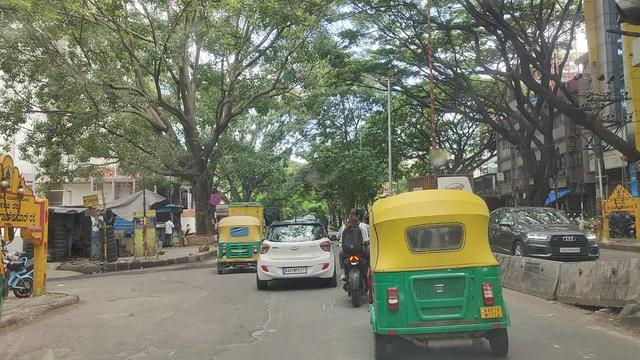LMV: (371, 195, 513, 351), (259, 221, 335, 286), (337, 210, 372, 302), (215, 217, 260, 266)
RoadDamages: (149, 295, 205, 331), (216, 324, 271, 358), (109, 339, 179, 360), (15, 344, 85, 360), (87, 309, 135, 325), (261, 292, 279, 323), (108, 289, 141, 305)
